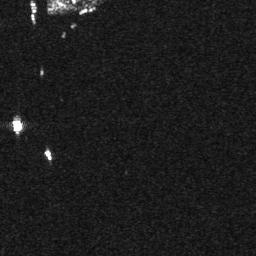ship: (43, 148, 54, 159), (30, 1, 37, 13), (78, 8, 89, 14)
